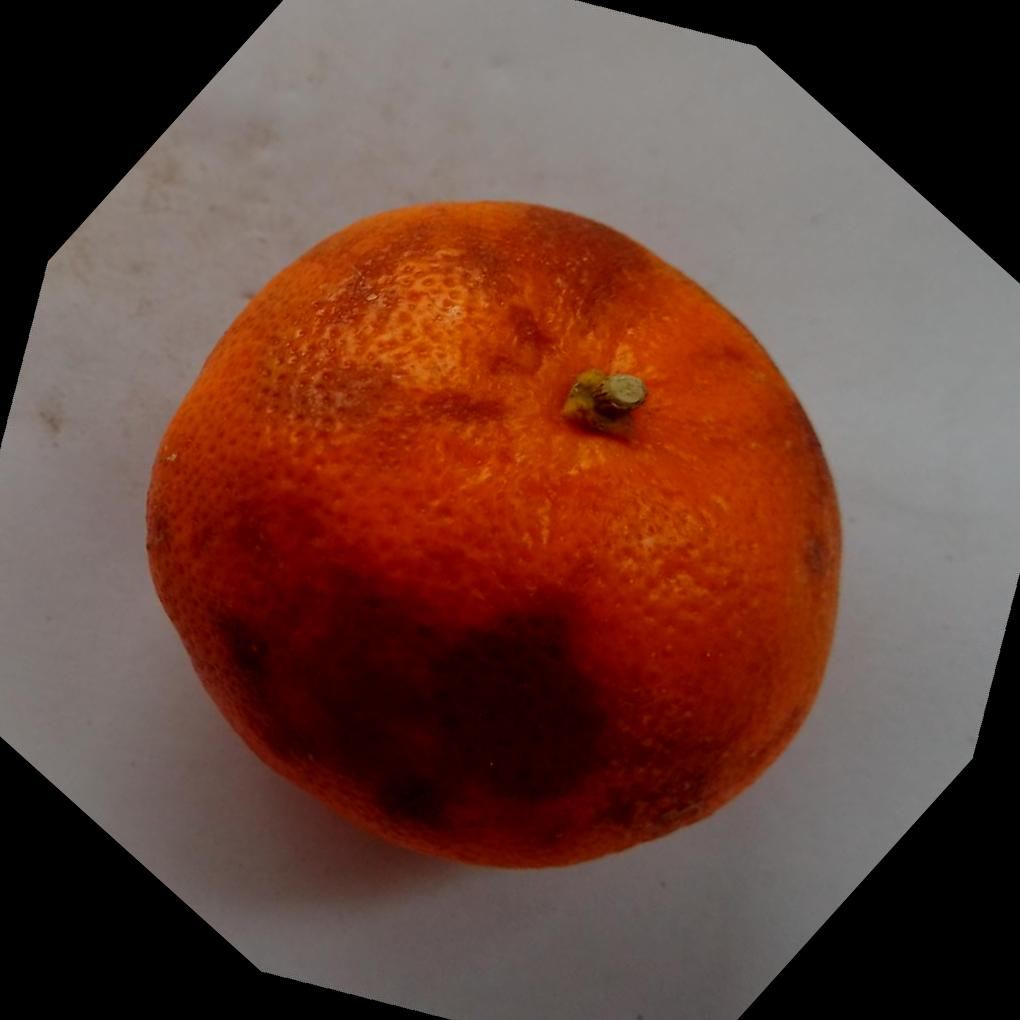FreshOrange: (144, 198, 847, 875)
